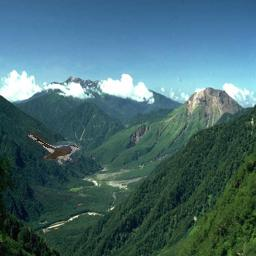Cuckoo: (27, 131, 82, 166)
